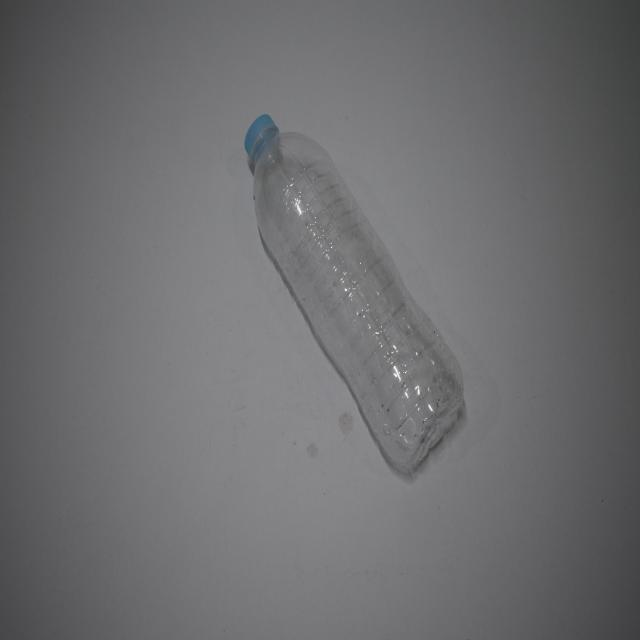empty: (245, 115, 463, 473)
